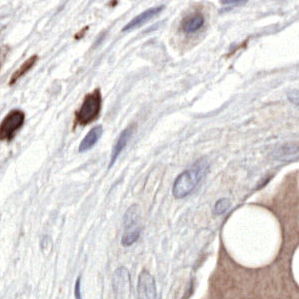Lymphocyte: (74, 92, 104, 122)
